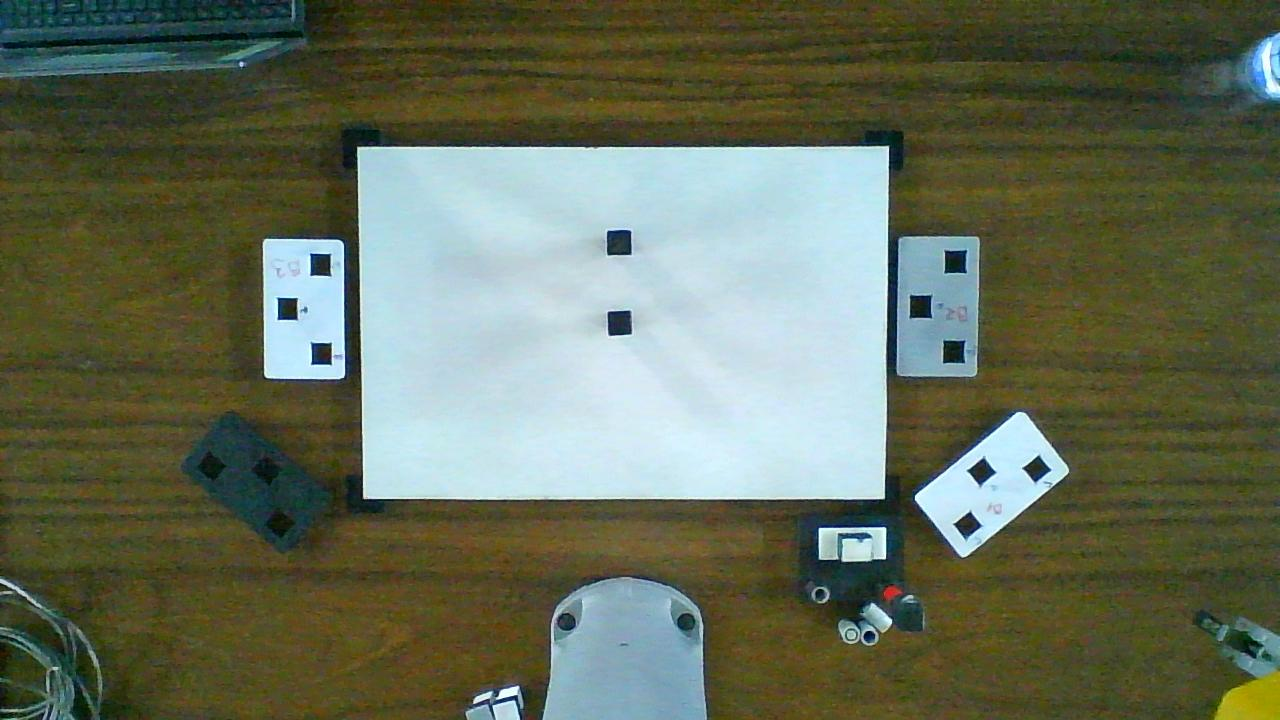peca_preta: (607, 231, 631, 254), (608, 312, 631, 334)
